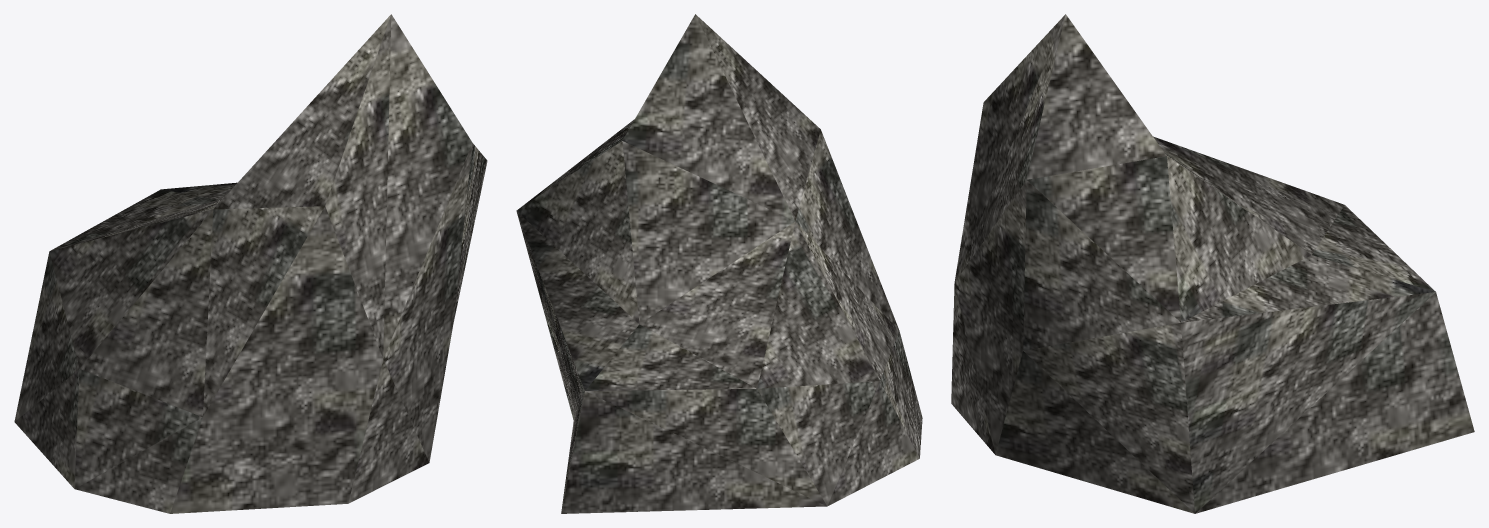
File: rock_shoreline_boulder_b.glb
3 renders of one model, left to right at view 1: azimuth 30°, elevation 25°; view 2: azimuth 150°, elevation 25°; view 3: azimuth 270°, elevation 25°, orthographic. The views are drawn at different scales.
Parts seen in each view (by area): view 1: rock_shoreline_boulder_b; view 2: rock_shoreline_boulder_b; view 3: rock_shoreline_boulder_b.
Boxes of the visible parts, x1=… form: rock_shoreline_boulder_b: x1=14, y1=14, x2=487, y2=513; rock_shoreline_boulder_b: x1=516, y1=14, x2=922, y2=513; rock_shoreline_boulder_b: x1=951, y1=14, x2=1474, y2=513.
Size of the model in its own units: 7.89 by 7.63 by 7.86.
1 material, 1 textured.
